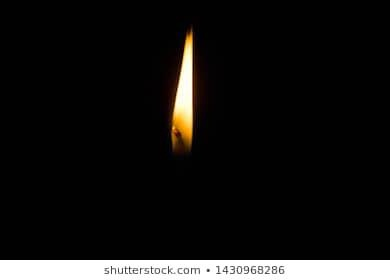fire: (169, 22, 197, 151)
